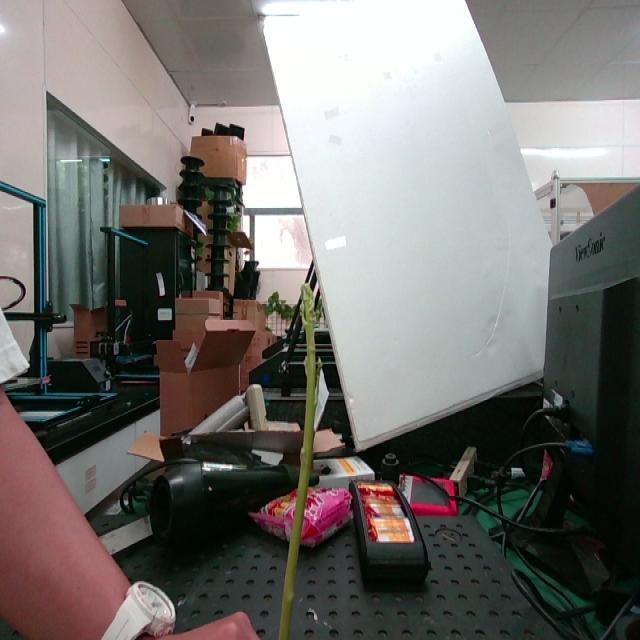aspargus: (279, 277, 321, 640)
